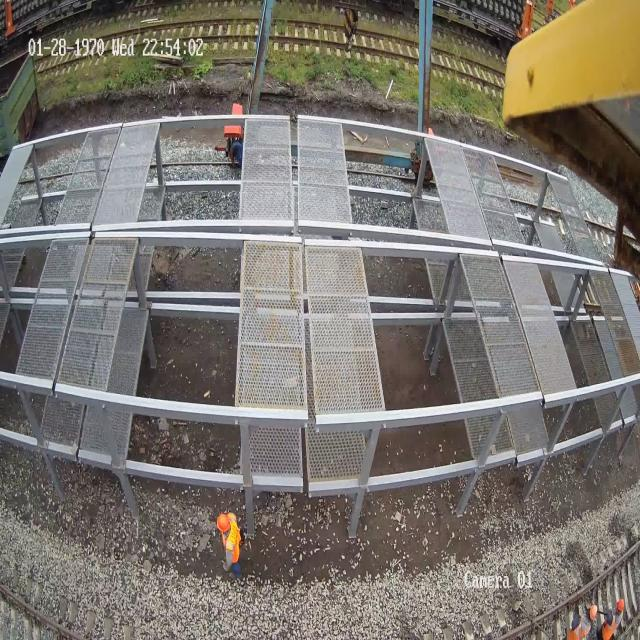Helmet: (216, 513, 230, 532), (590, 604, 598, 620), (606, 608, 613, 624), (617, 598, 624, 610)
Person: (216, 512, 243, 574), (566, 615, 627, 637)
